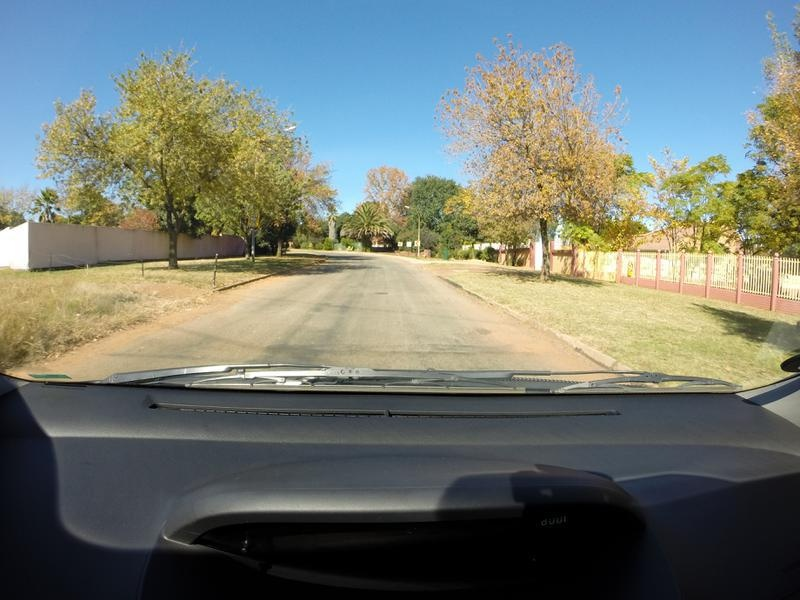pothole: (371, 290, 385, 298)
